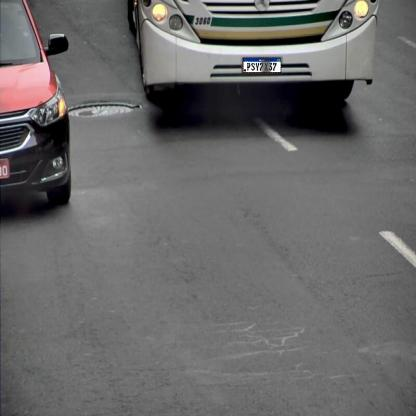PlacaM: (243, 57, 281, 73)
